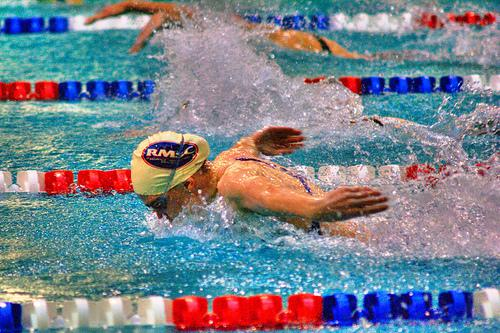swimmer: (126, 124, 388, 256)
